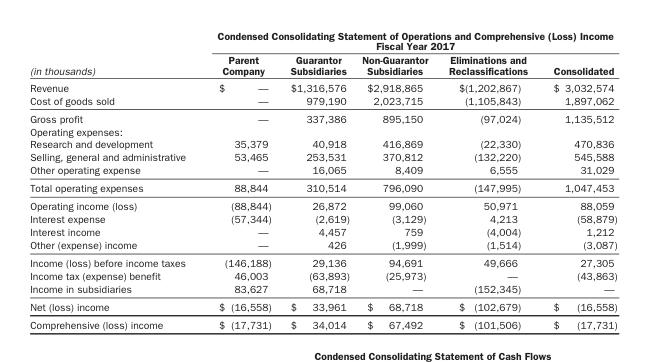table: (29, 29, 616, 330)
table column: (29, 29, 200, 330), (437, 29, 539, 330), (355, 29, 437, 330), (200, 29, 280, 330), (539, 29, 616, 330), (280, 29, 355, 330)
table column header: (29, 29, 616, 78)
table projected row header: (29, 124, 616, 137)
table row: (29, 52, 616, 78), (29, 29, 616, 52), (29, 178, 616, 196), (29, 297, 616, 315), (29, 93, 616, 109), (29, 196, 616, 212), (29, 253, 616, 269), (29, 78, 616, 93), (29, 109, 616, 124), (29, 163, 616, 178), (29, 238, 616, 253), (29, 282, 616, 297), (29, 315, 616, 330), (29, 124, 616, 137), (29, 137, 616, 150), (29, 150, 616, 163), (29, 212, 616, 225), (29, 225, 616, 238), (29, 269, 616, 282)
table spanning cell: (200, 29, 616, 52), (29, 29, 200, 78)
